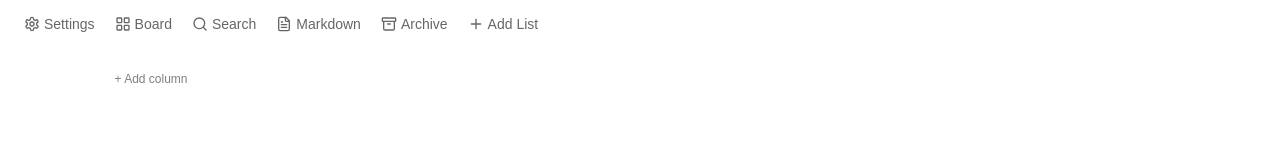
it: Board — add column flow › shows InlineEdit when add column button is clicked
Click the button "+ Add column" at (151, 79), box x1=16 y1=60 x2=286 y2=98
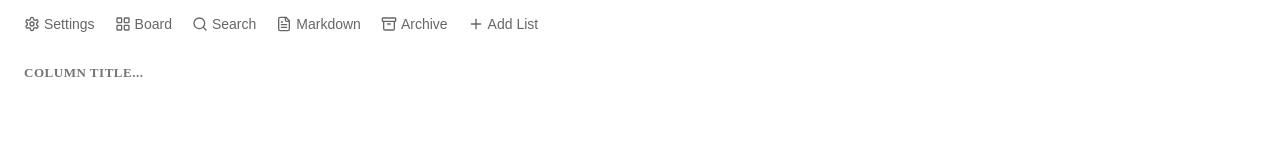
Result: the text box with placeholder "Column title..." is shown at x1=16 y1=60 x2=1248 y2=88
